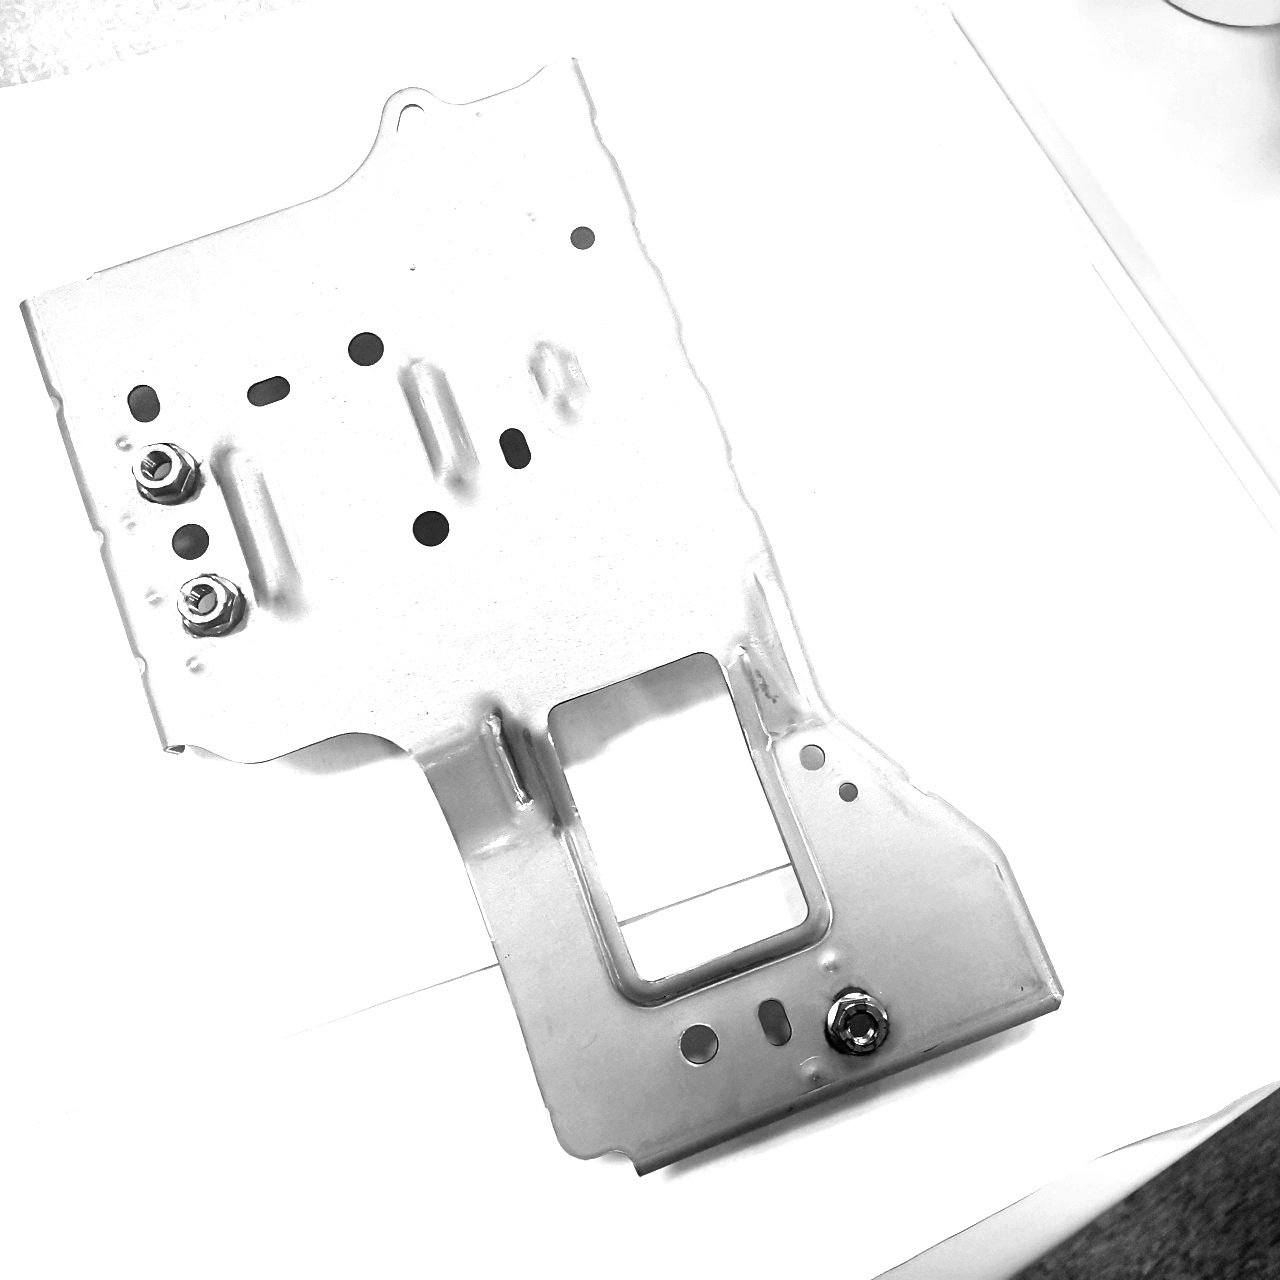dog: (816, 982, 892, 1064), (125, 434, 204, 510), (172, 568, 244, 646)
